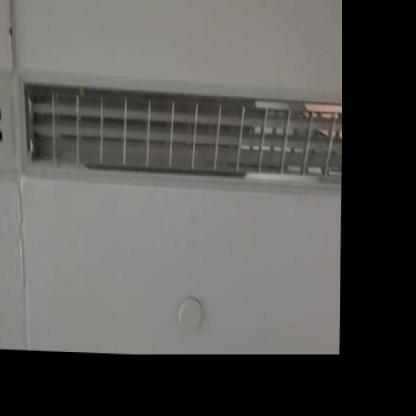light_off: (16, 52, 343, 217)
